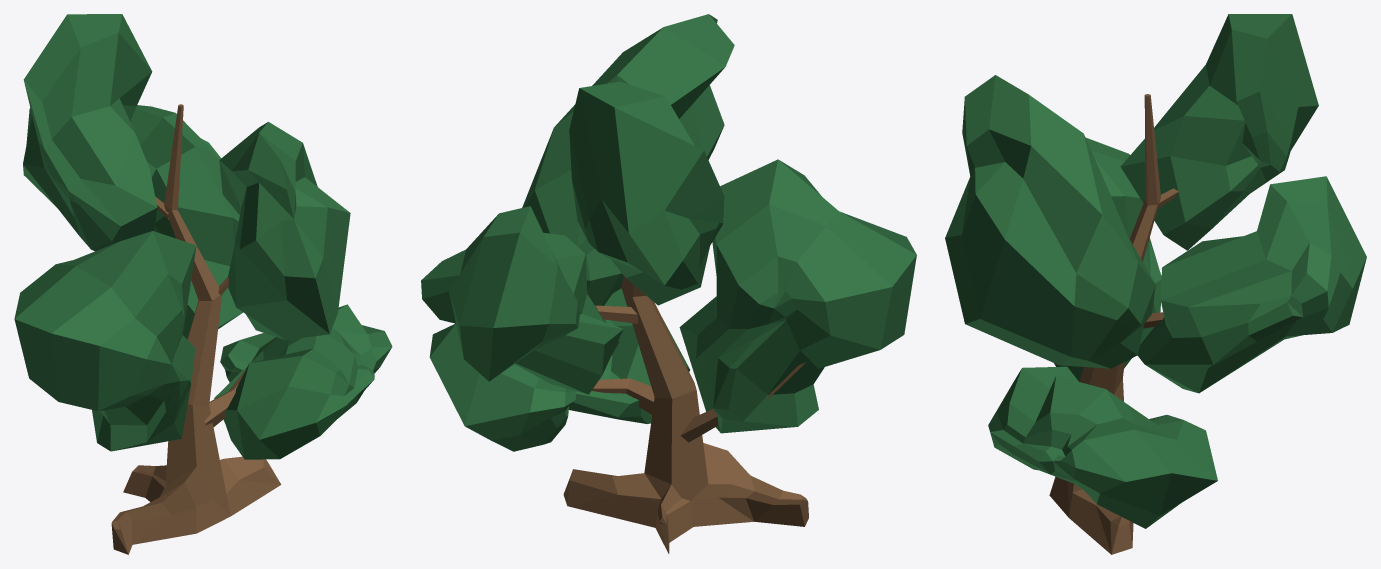
File: Tree_Basic2.fbx
3 renders of one model, left to right at view 1: azimuth 30°, elevation 25°; view 2: azimuth 150°, elevation 25°; view 3: azimuth 270°, elevation 25°, orthographic. The views are drawn at different scales.
Visible parts, largest first — view 1: Tree.Basic.2; view 2: Tree.Basic.2; view 3: Tree.Basic.2.
Boxes of the visible parts, left/top/right/bottom form: Tree.Basic.2: left=14, top=14, right=392, bottom=554; Tree.Basic.2: left=421, top=14, right=916, bottom=553; Tree.Basic.2: left=945, top=14, right=1366, bottom=554.
Bounding box in the file's own units: 3437 × 3697 × 2990.
